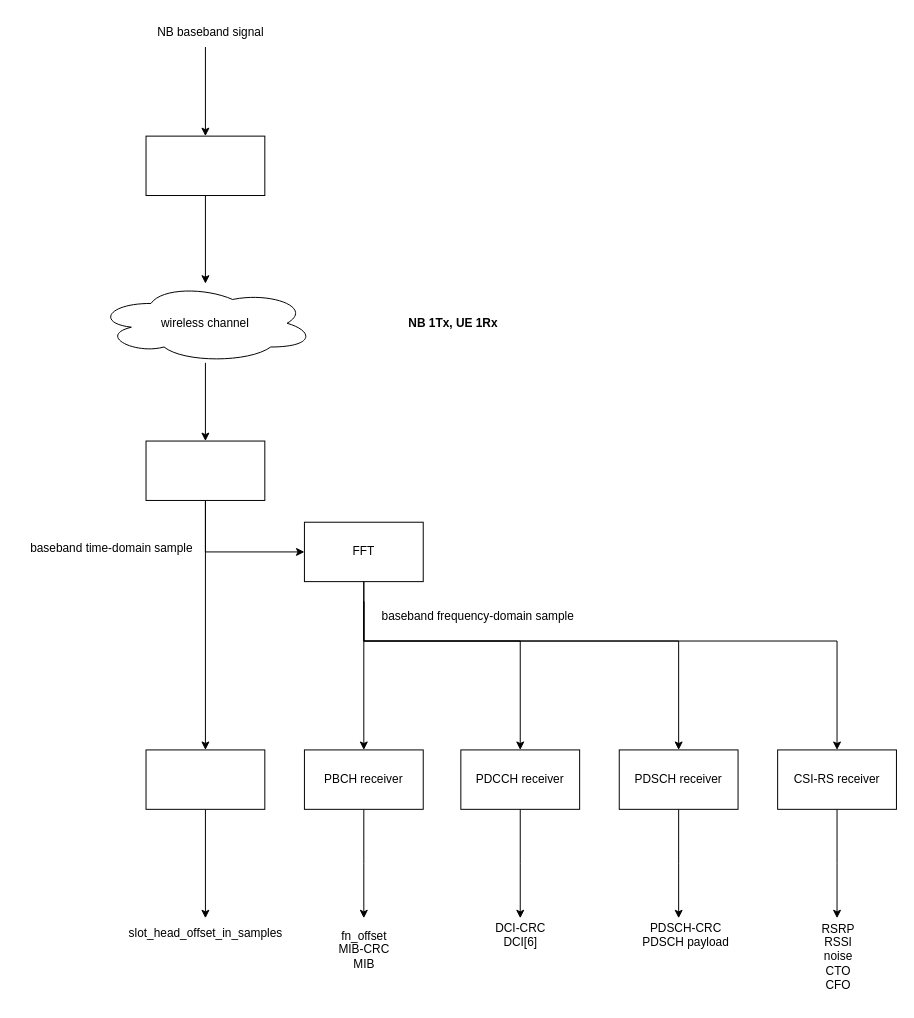
The diagram is 914 pixels wide and 1018 high, and some of its shapes have lost their labels. The centre of each missing label's shape, as x and y in pixels:
DAC/RF: (x=205, y=165)
RF/ADC: (x=205, y=470)
SS receiver: (x=205, y=779)
